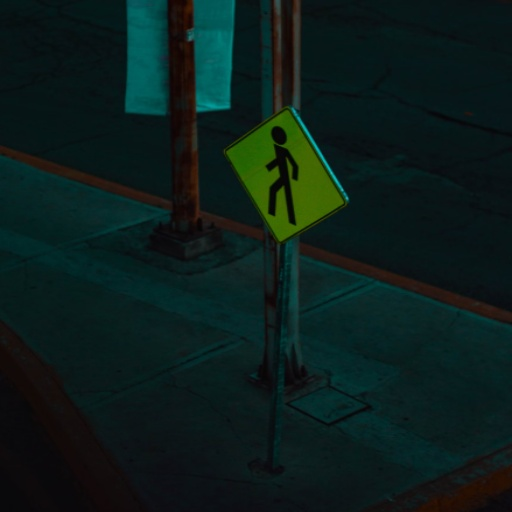Pedestrian crossing: (227, 115, 335, 220)
